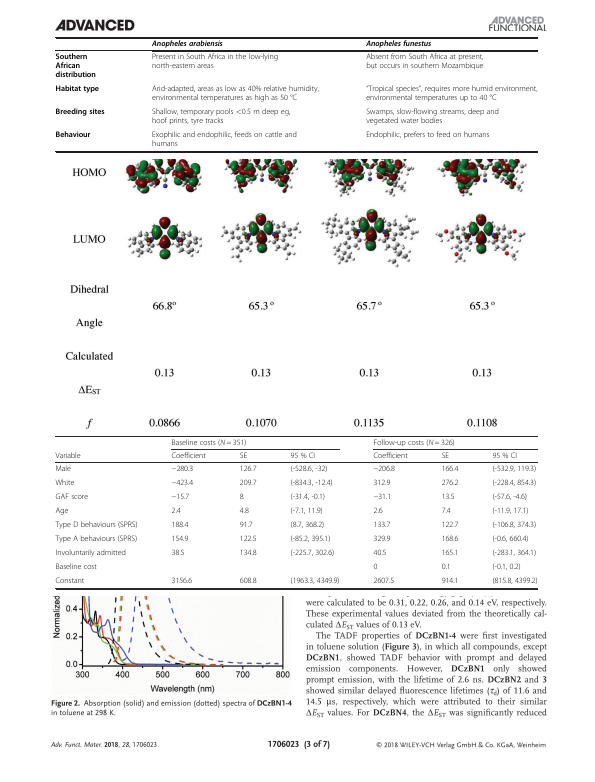borderless: (54, 434, 537, 588), (54, 36, 537, 151)
cell: (365, 85, 538, 104), (151, 85, 320, 104), (151, 131, 298, 150), (151, 108, 291, 127), (365, 108, 500, 127), (151, 53, 279, 72), (365, 53, 484, 72), (365, 131, 490, 141), (54, 53, 97, 81), (54, 520, 138, 530), (54, 534, 138, 544), (372, 438, 456, 447), (54, 548, 127, 558), (171, 438, 247, 447), (151, 40, 224, 49), (365, 40, 432, 49), (54, 108, 106, 118), (290, 576, 340, 586), (491, 576, 538, 586), (54, 85, 100, 95), (491, 464, 537, 474), (491, 478, 537, 488), (491, 520, 537, 530), (491, 548, 537, 558), (290, 548, 335, 558), (54, 562, 98, 572), (290, 478, 333, 488), (290, 534, 331, 544), (290, 464, 328, 474), (491, 506, 529, 516), (491, 534, 529, 544), (54, 131, 91, 141), (372, 451, 409, 461), (491, 492, 528, 502), (171, 451, 207, 461), (290, 492, 326, 502), (54, 492, 89, 502), (290, 520, 325, 530), (290, 506, 324, 516), (491, 562, 522, 572), (54, 576, 85, 586), (54, 451, 81, 461), (491, 451, 518, 461), (290, 451, 316, 461), (372, 464, 396, 474), (171, 464, 194, 474), (171, 478, 194, 488), (372, 576, 395, 586), (171, 576, 193, 586), (54, 478, 75, 488), (372, 492, 392, 502), (372, 478, 391, 488), (171, 492, 190, 502), (372, 520, 391, 530), (372, 534, 391, 544), (54, 464, 72, 474), (239, 464, 257, 474), (441, 464, 459, 474), (239, 478, 257, 488), (441, 478, 459, 488), (171, 520, 189, 530), (441, 520, 459, 530), (171, 534, 189, 544), (239, 534, 257, 544), (441, 534, 459, 544), (239, 548, 257, 558), (441, 548, 459, 558), (239, 576, 257, 586), (441, 576, 459, 586), (54, 506, 69, 516), (239, 520, 254, 530), (372, 548, 387, 558), (441, 492, 455, 502), (171, 548, 185, 558), (171, 506, 182, 516), (239, 506, 250, 516), (372, 506, 383, 516), (441, 506, 452, 516), (441, 562, 452, 572), (239, 451, 248, 461), (441, 451, 450, 461), (239, 492, 245, 502), (372, 562, 378, 572)
